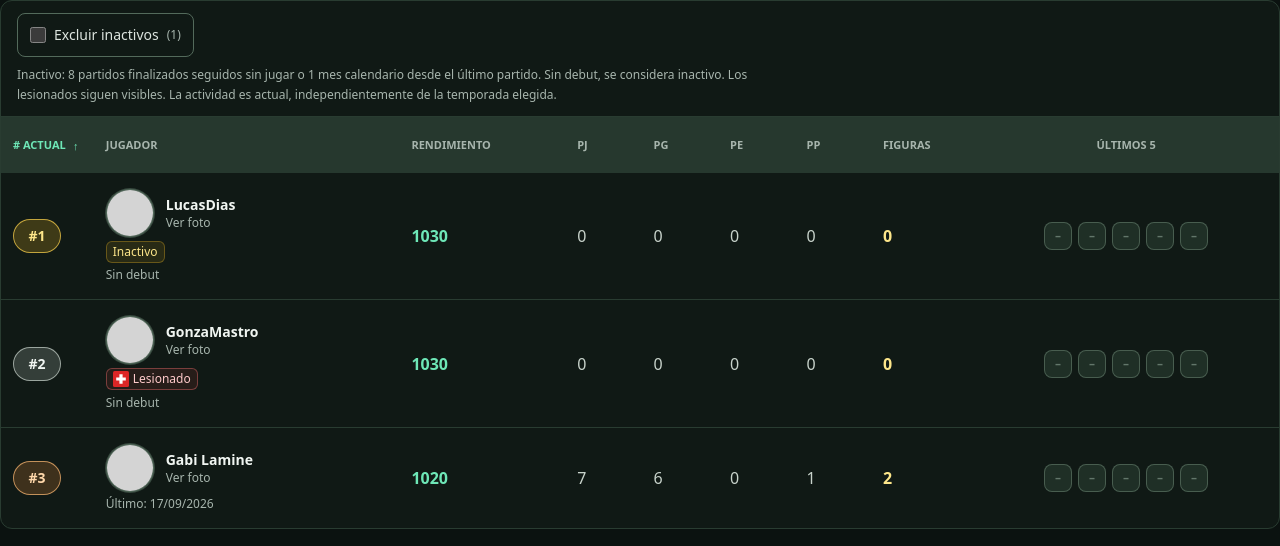
Test: RankingTableQuery › excluye de inmediato a quien no debutó aunque no se hayan jugado partidos y mantiene al lesionado sin debut
Click the checkbox labelled "Excluir inactivos". click: (38, 35)
box: [30,27,46,43]
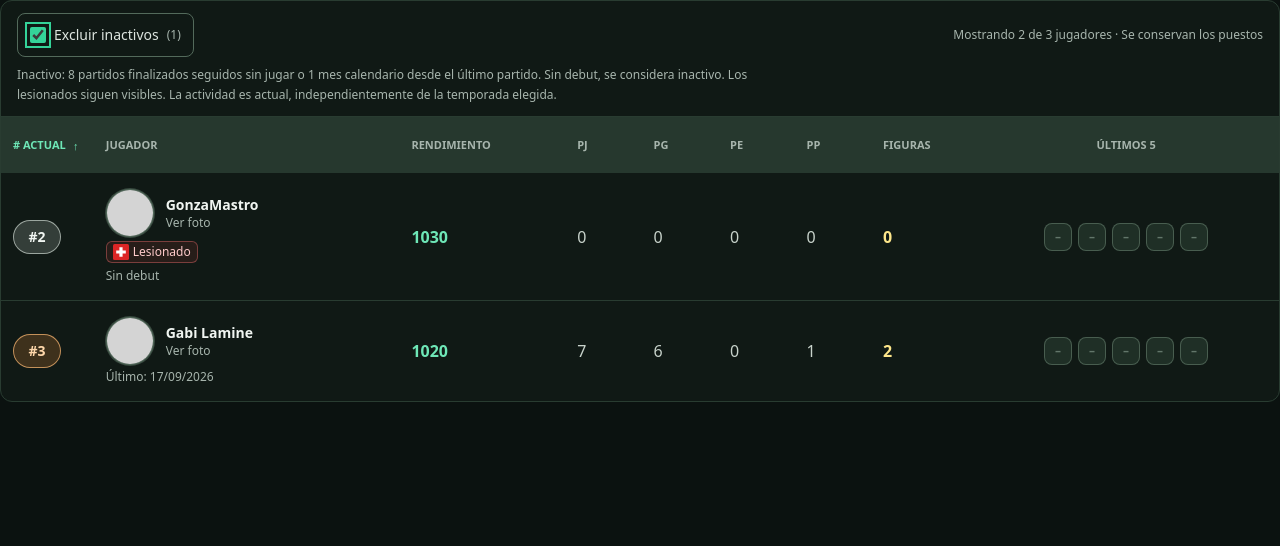
Check: the row that starts with "GonzaMastro" shows "Sin debut", box [106,267,159,284]
Check: the button "LucasDias" is gone
